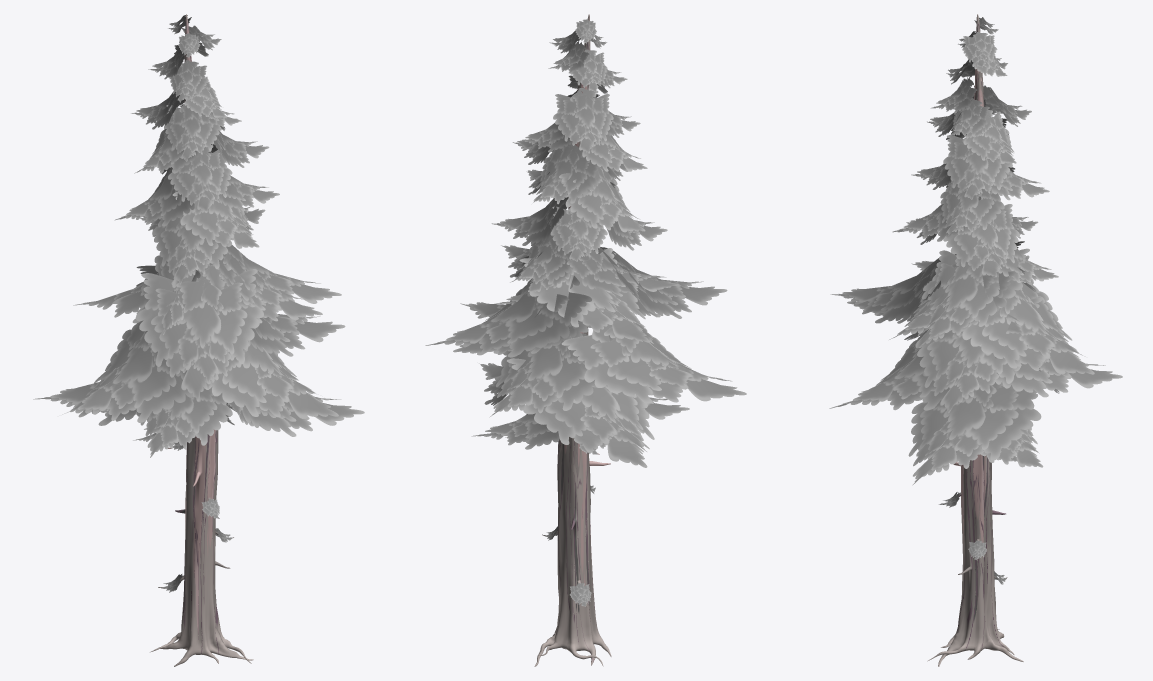
The model's file is GiantTree.fbx.
The picture shows the model from 3 angles, left to right: view 1: azimuth 30°, elevation 25°; view 2: azimuth 150°, elevation 25°; view 3: azimuth 270°, elevation 25°; orthographic projection.
Parts seen in each view (by area): view 1: GiantTree_LOD0; view 2: GiantTree_LOD0; view 3: GiantTree_LOD0.
Boxes of the visible parts, x1=… form: GiantTree_LOD0: x1=33, y1=14, x2=364, y2=666; GiantTree_LOD0: x1=425, y1=14, x2=746, y2=666; GiantTree_LOD0: x1=829, y1=14, x2=1122, y2=666.
Size of what is drawn, in the model's own units: 7705 by 14971 by 7123.
